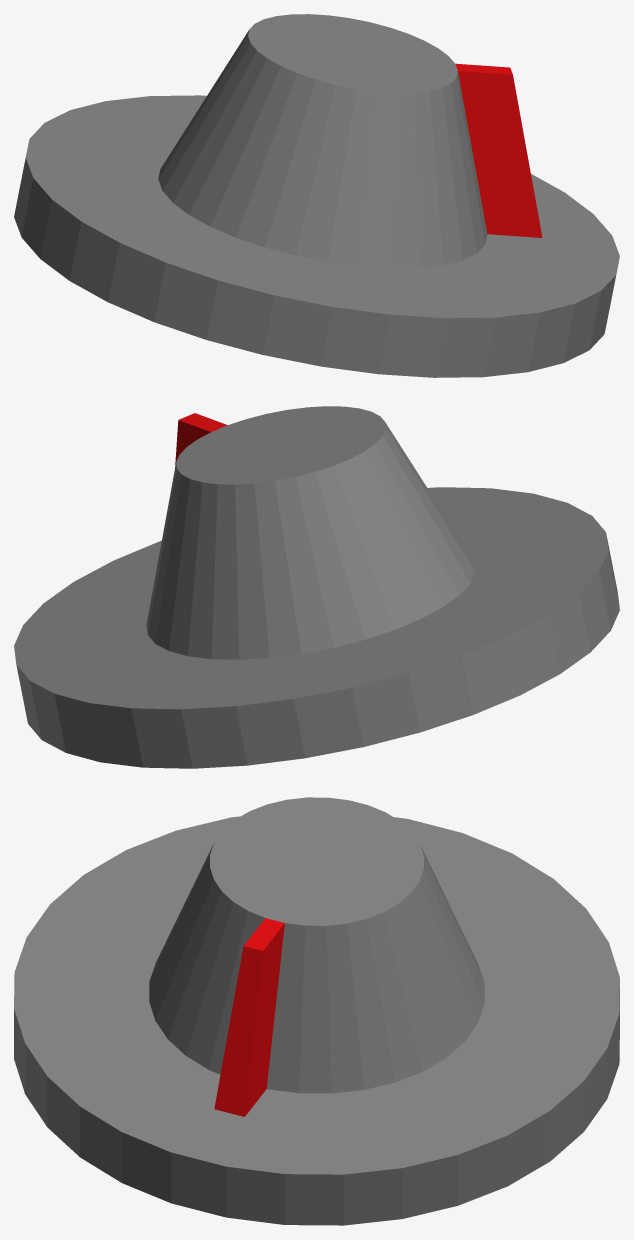
Rendered from spinner_for_thermistor.glb.
3 renders of one model, top to bottom at view 1: azimuth 30°, elevation 25°; view 2: azimuth 150°, elevation 25°; view 3: azimuth 270°, elevation 25°, orthographic.
Visible parts, largest first — view 1: Крутилка; view 2: Крутилка; view 3: Крутилка.
Part boxes in pixels (bbox=[...]): Крутилка: bbox=[14, 14, 619, 377]; Крутилка: bbox=[14, 406, 619, 768]; Крутилка: bbox=[14, 797, 619, 1225].
Bounding box in the file's own units: 1.01 × 0.521 × 1.02.
